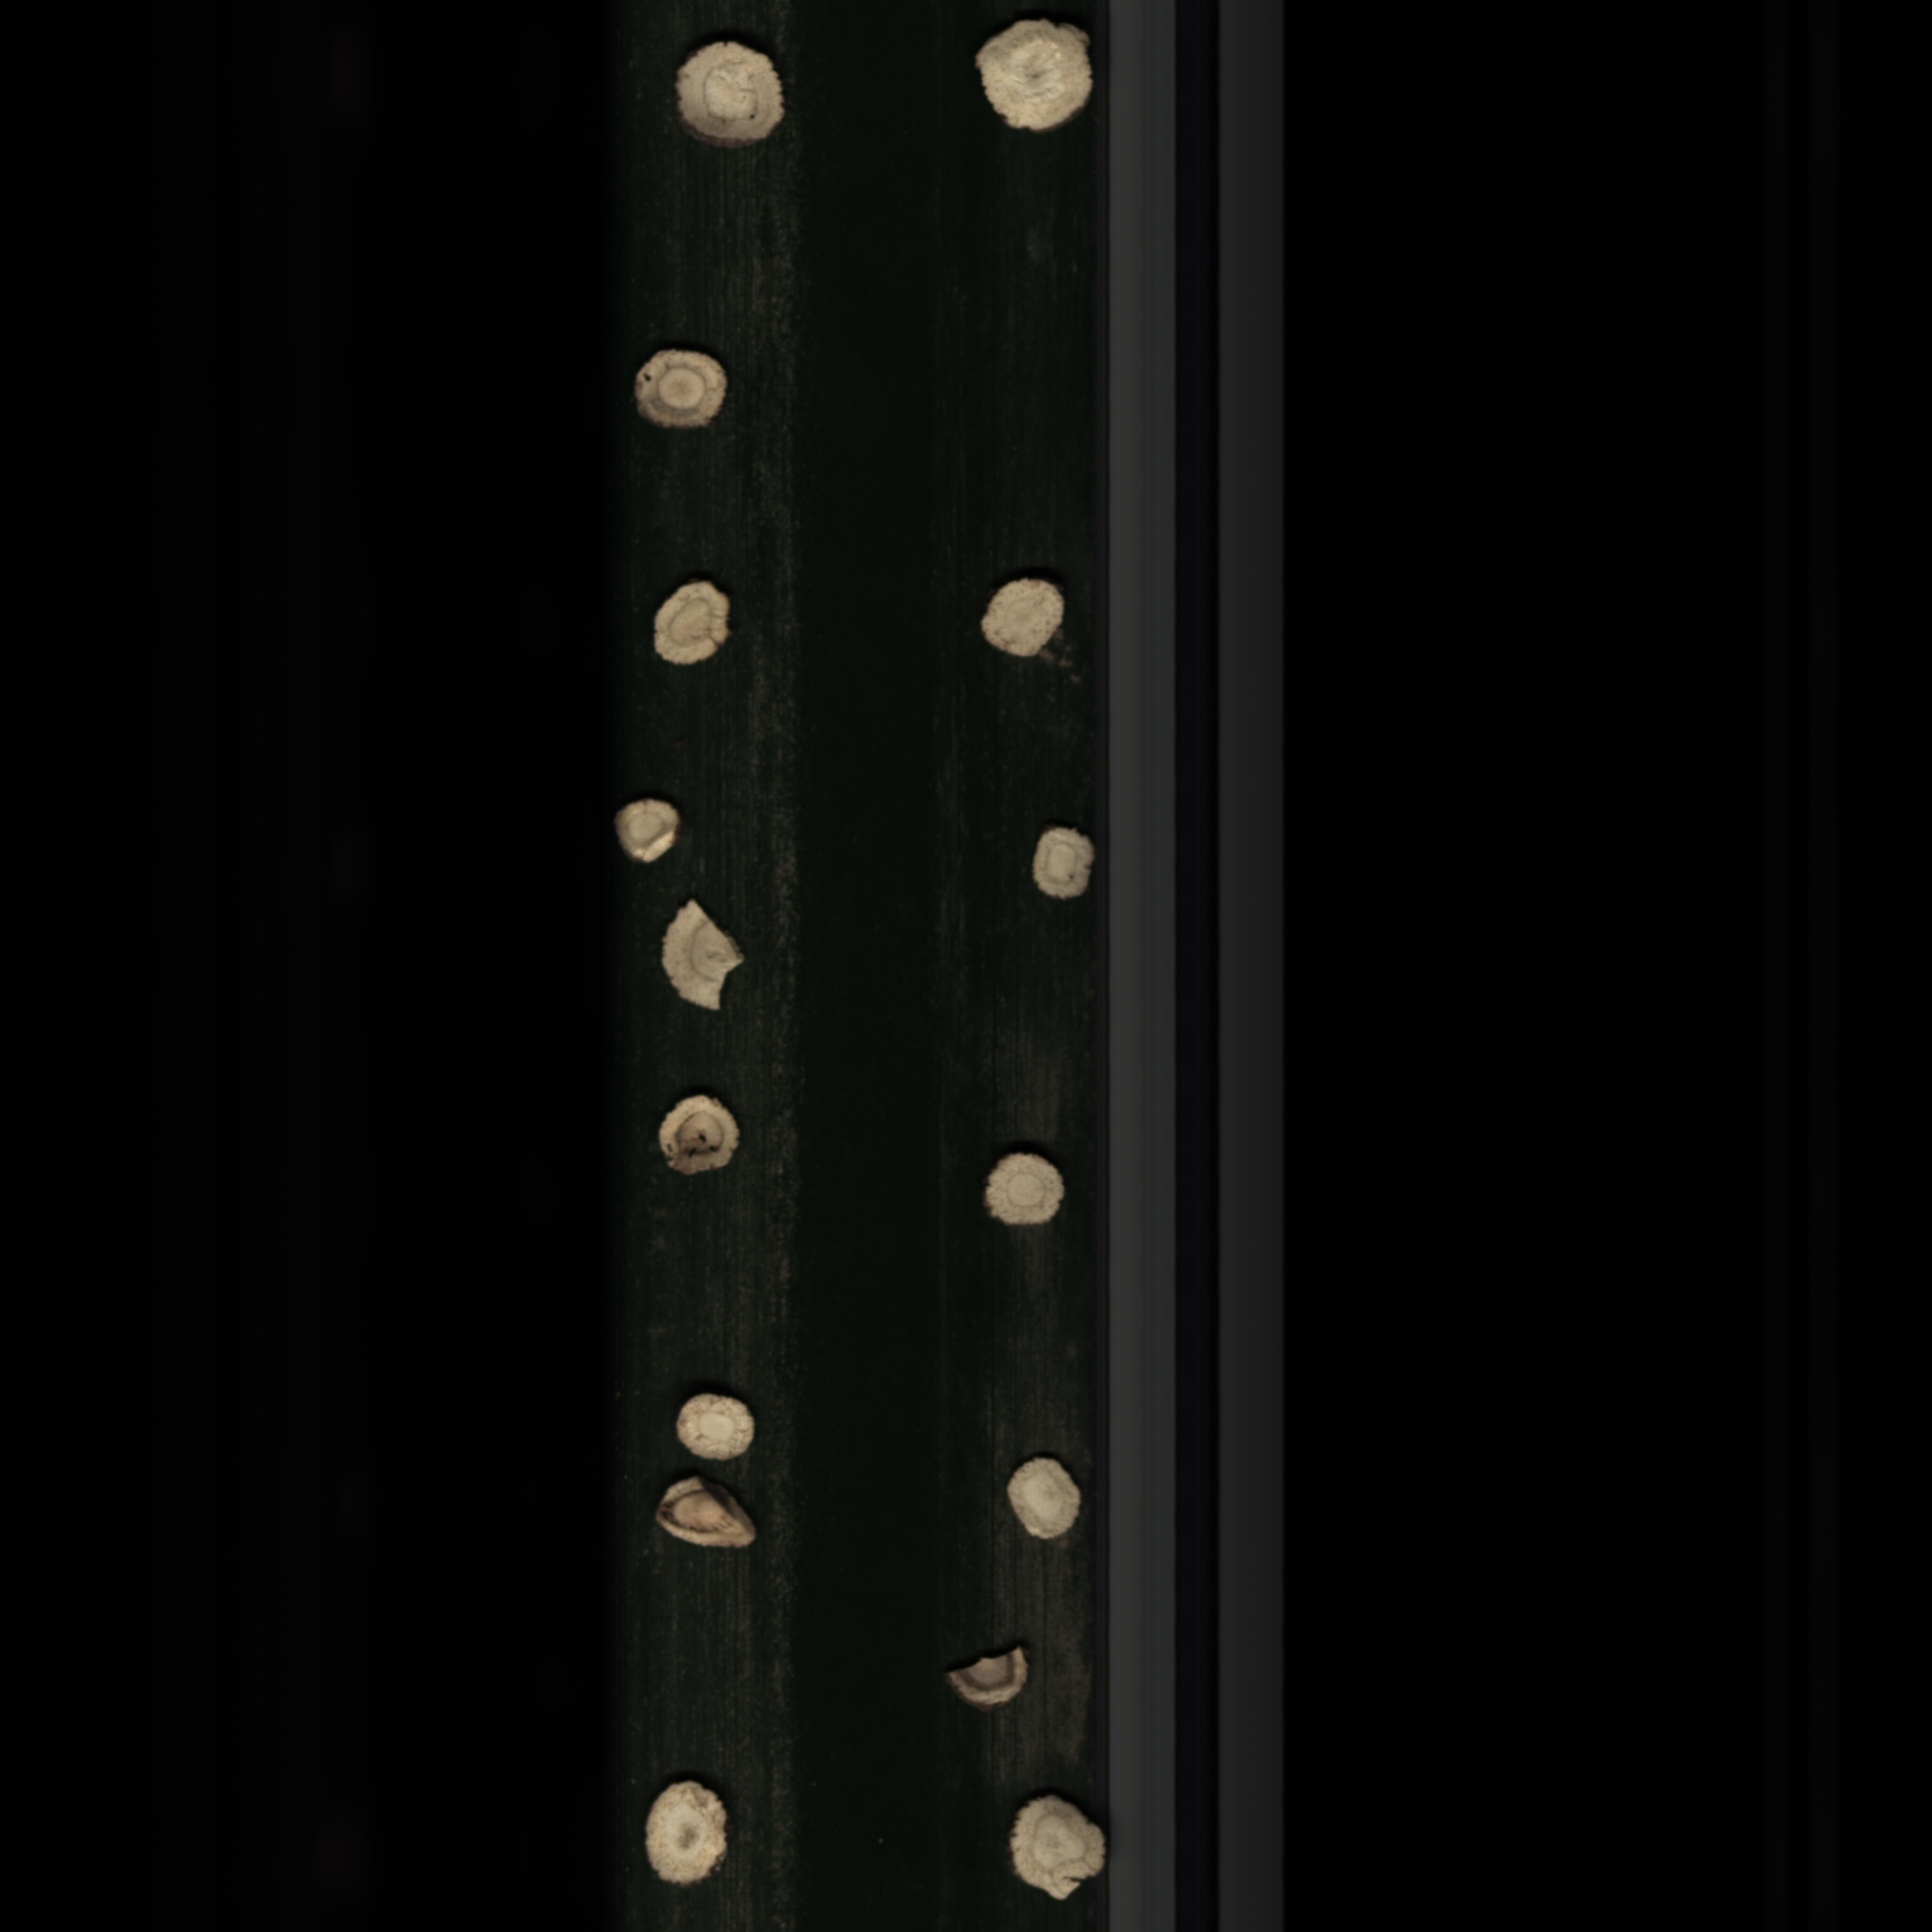debris: (649, 886, 764, 1023)
moldy: (642, 1088, 777, 1194), (649, 1467, 787, 1566), (938, 1635, 1053, 1723)
